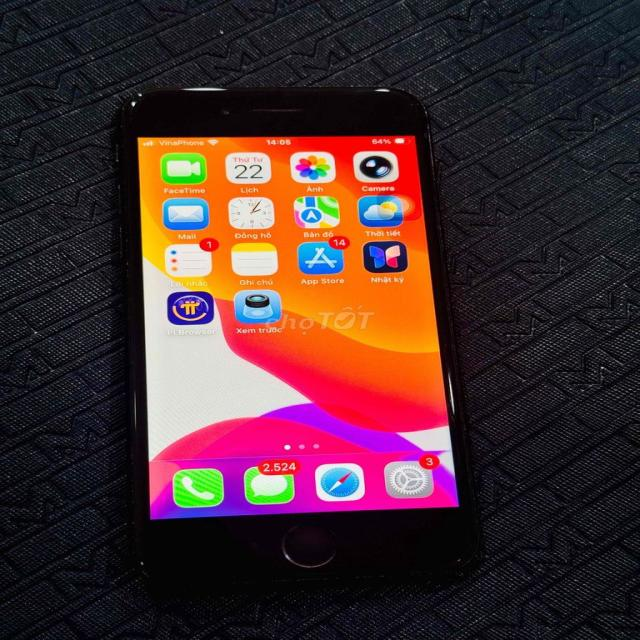scratch: (445, 371, 465, 417), (124, 387, 145, 429), (174, 80, 232, 91), (128, 88, 144, 109), (132, 551, 146, 570), (372, 84, 393, 95), (452, 549, 463, 562)
